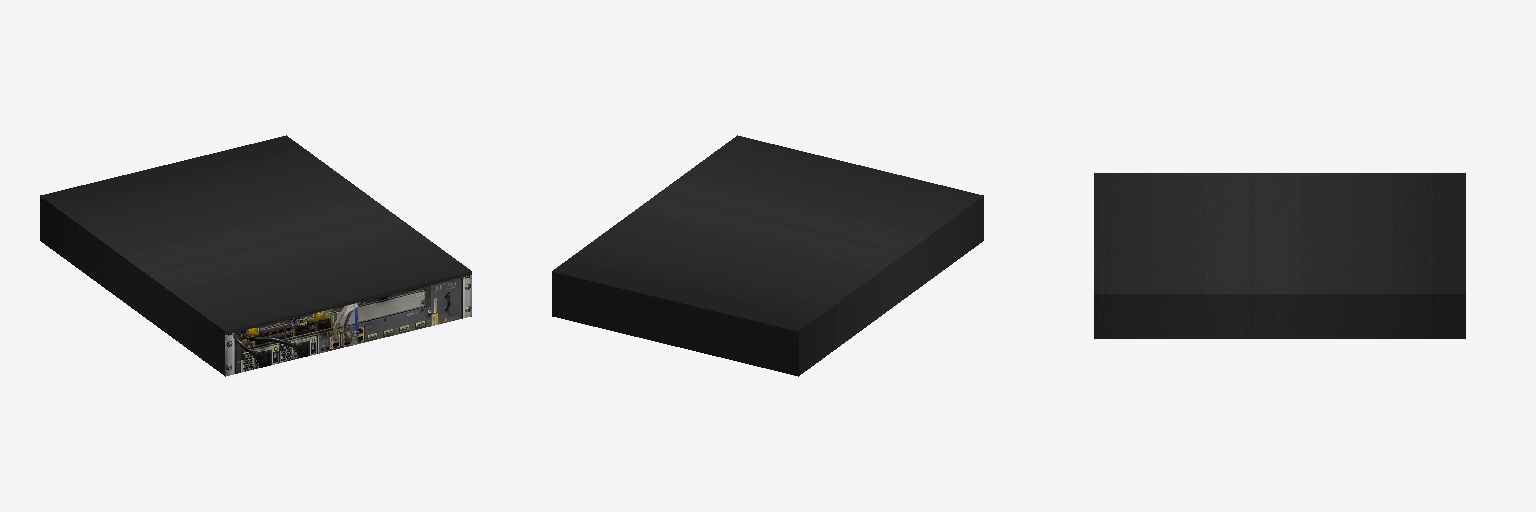
3 views of the same model, side by side, from view 1: azimuth 30°, elevation 25°; view 2: azimuth 150°, elevation 25°; view 3: azimuth 270°, elevation 25° (orthographic).
Visible parts, largest first — view 1: Box001; view 2: Box001; view 3: Box001.
Boxes of the visible parts, x1,y1,x2,y2 form: Box001: [40, 135, 471, 376]; Box001: [552, 135, 983, 376]; Box001: [1094, 173, 1465, 338].
Bounding box in the file's own units: 22.43 × 3.89 × 29.23.
1 materials, 1 textured.